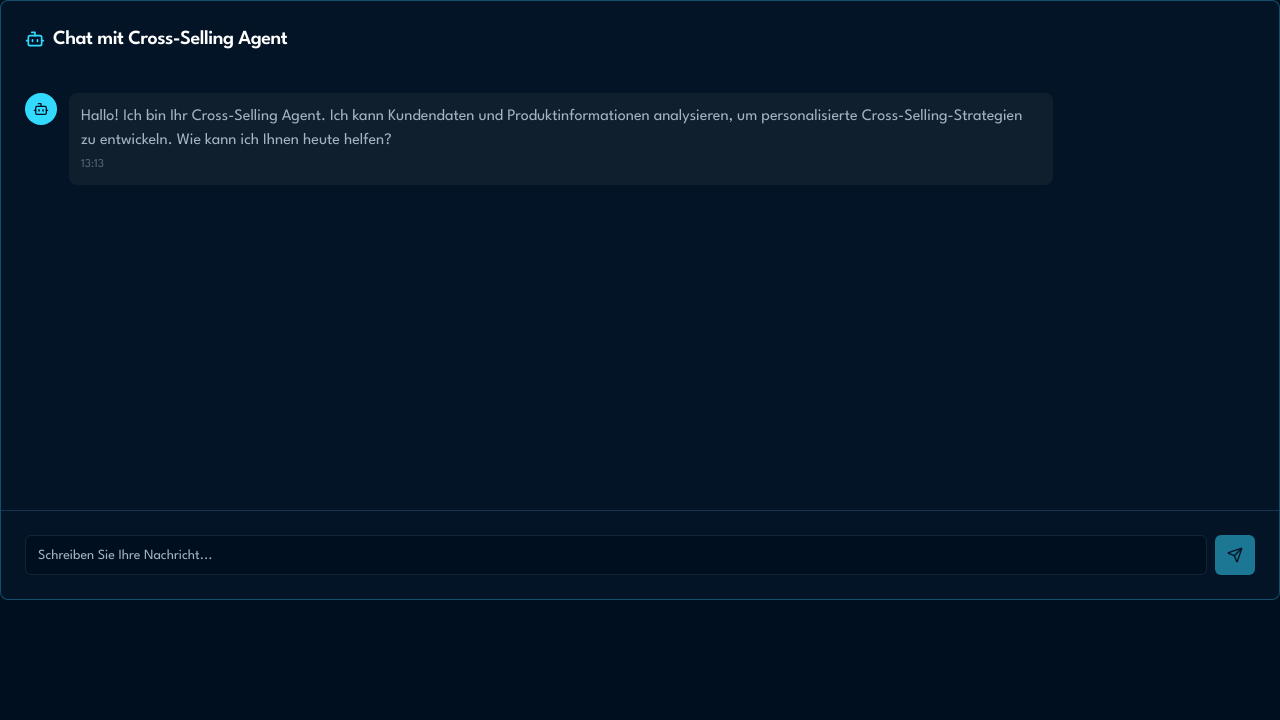
Scenario: ChatInterface › sends message when send button is clicked
Type "Test message" into the field with placeholder "Schreiben Sie Ihre Nachricht..." at (616, 555), box [25,535,1207,575]
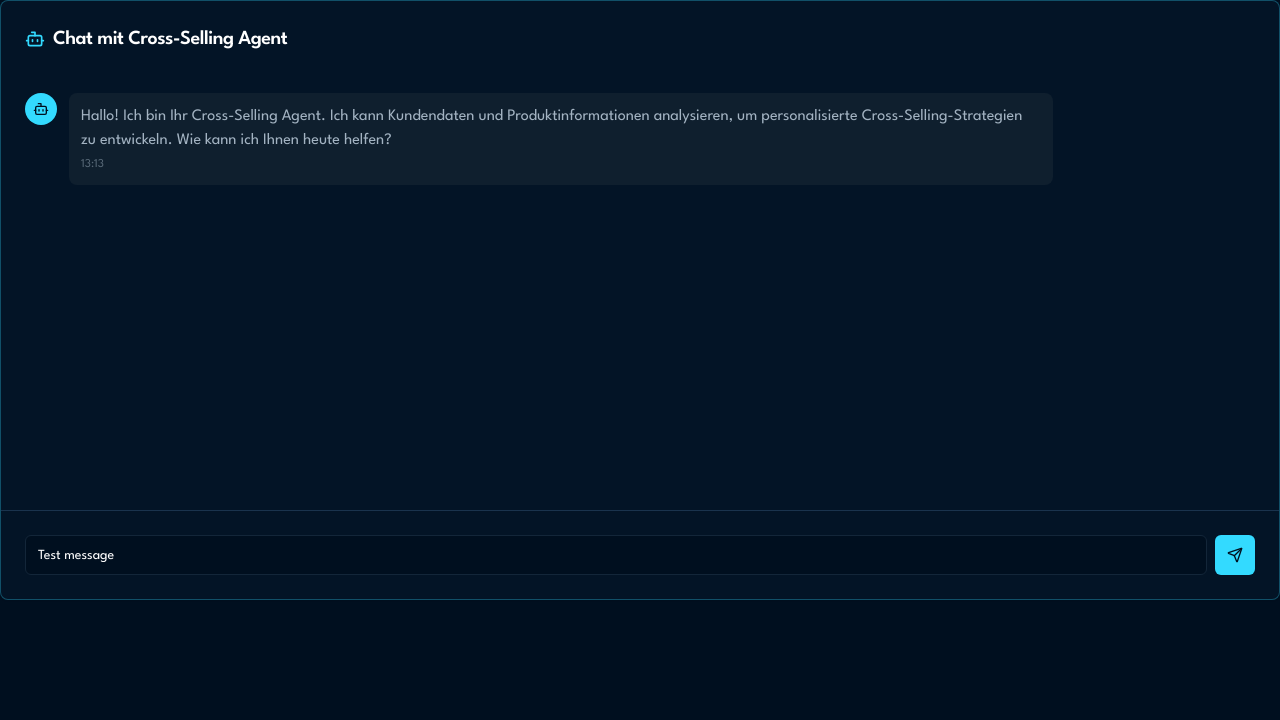
Click the button at (1235, 555), box [1215,535,1255,575]
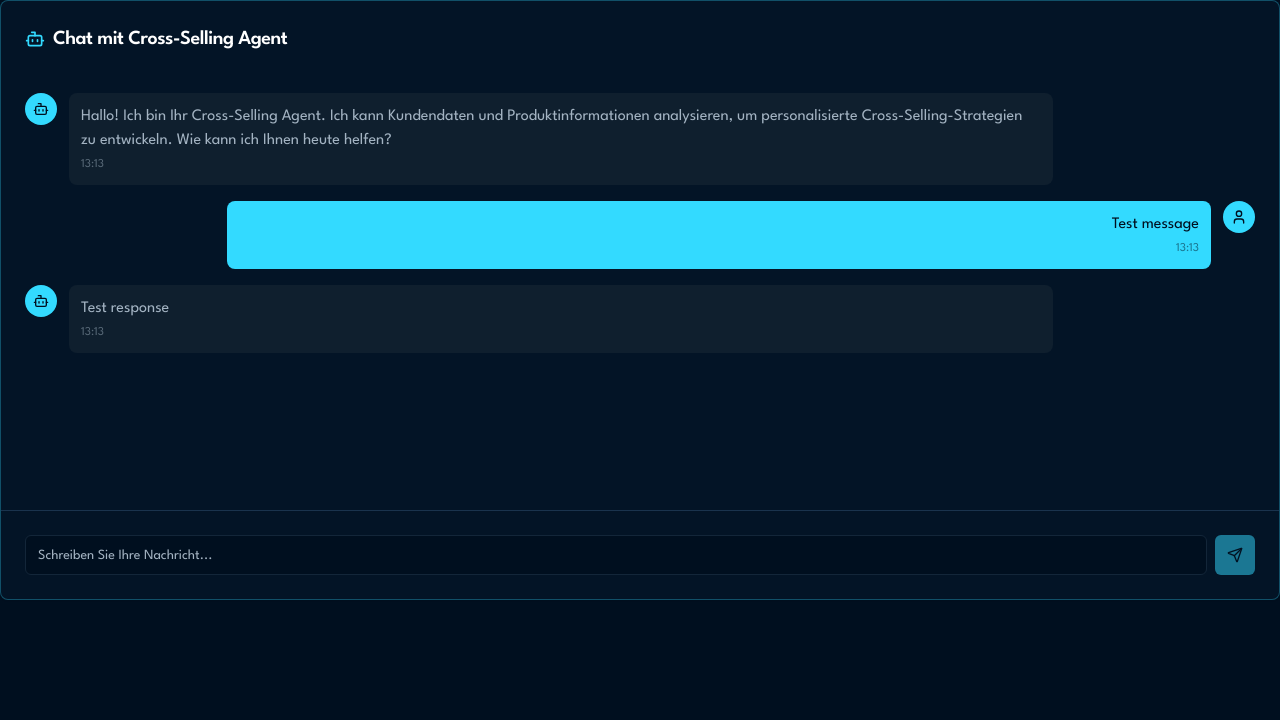
Expected: the text "Test message" is shown, [1112,217,1199,232]
